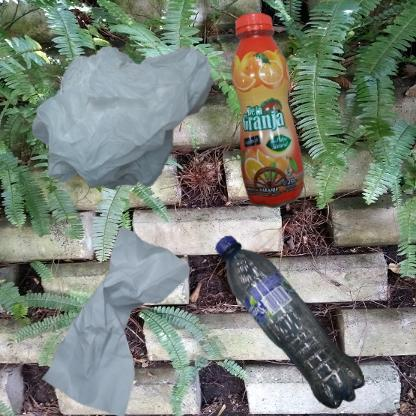bolsa: (10, 10, 278, 249)
botella: (213, 213, 384, 416), (213, 10, 331, 226)
papel: (10, 213, 233, 416)
